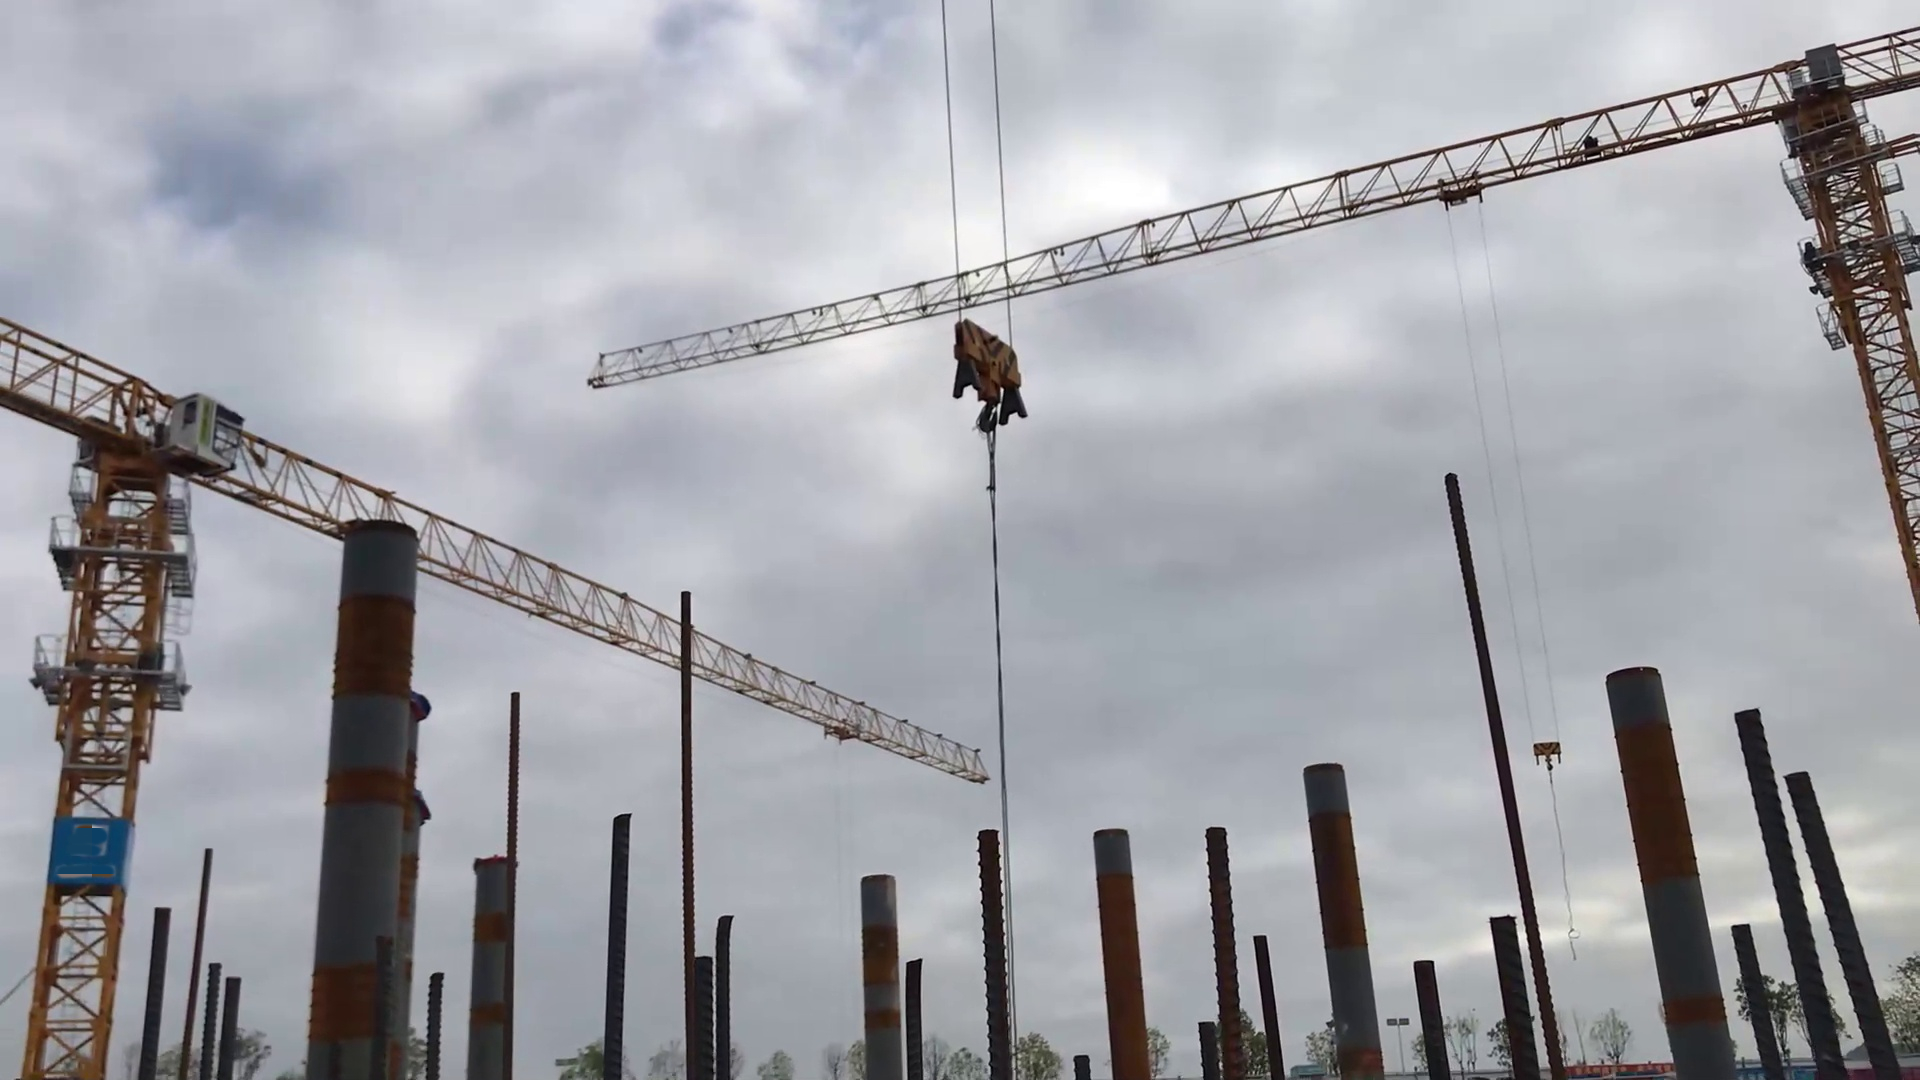hook: (942, 314, 1040, 436), (1523, 738, 1571, 777)
